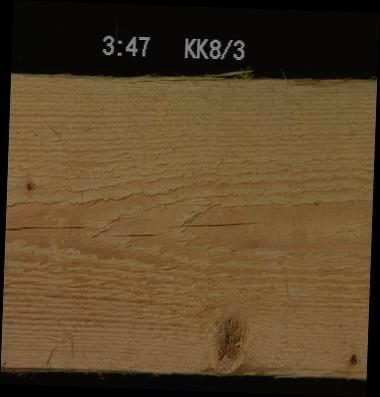dry_knot: (345, 350, 359, 365)
small_knot: (23, 178, 35, 193)
sound_knot: (206, 311, 246, 369)
split: (57, 68, 263, 81), (164, 219, 257, 229), (5, 223, 88, 233), (107, 227, 164, 238)
wave: (191, 366, 365, 379)
